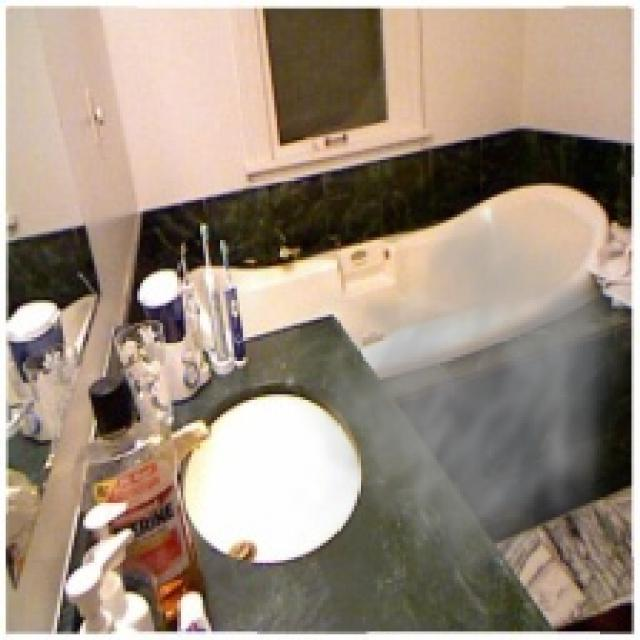Smoke: (286, 186, 632, 603)
